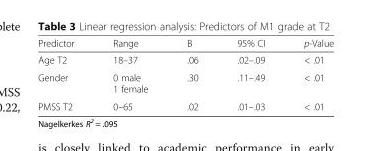table: (37, 37, 333, 111)
table column: (92, 37, 166, 111), (217, 37, 283, 111), (37, 37, 92, 111), (166, 37, 217, 111), (283, 37, 333, 111)
table column header: (37, 37, 333, 51)
table row: (37, 68, 333, 97), (37, 51, 333, 68), (37, 37, 333, 51), (37, 97, 333, 111)
